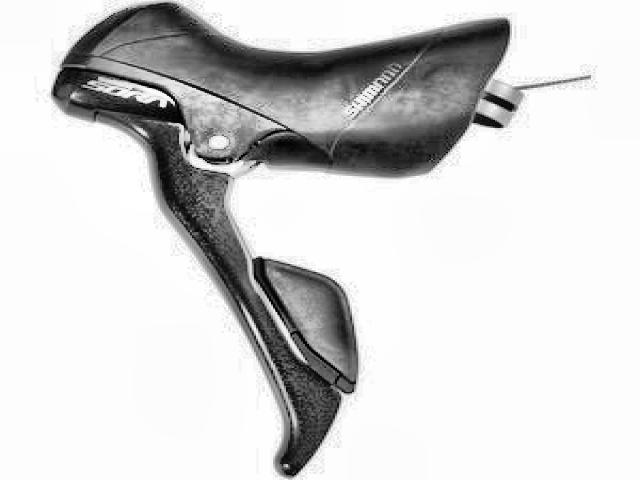sti_shifter: (48, 0, 498, 474)
